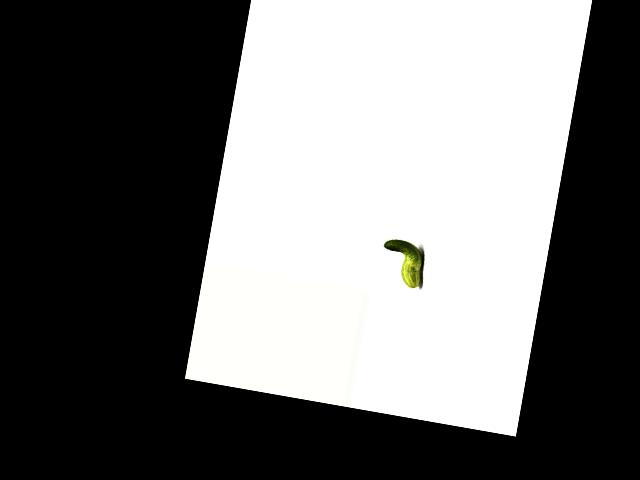cucumber: (377, 236, 427, 288)
